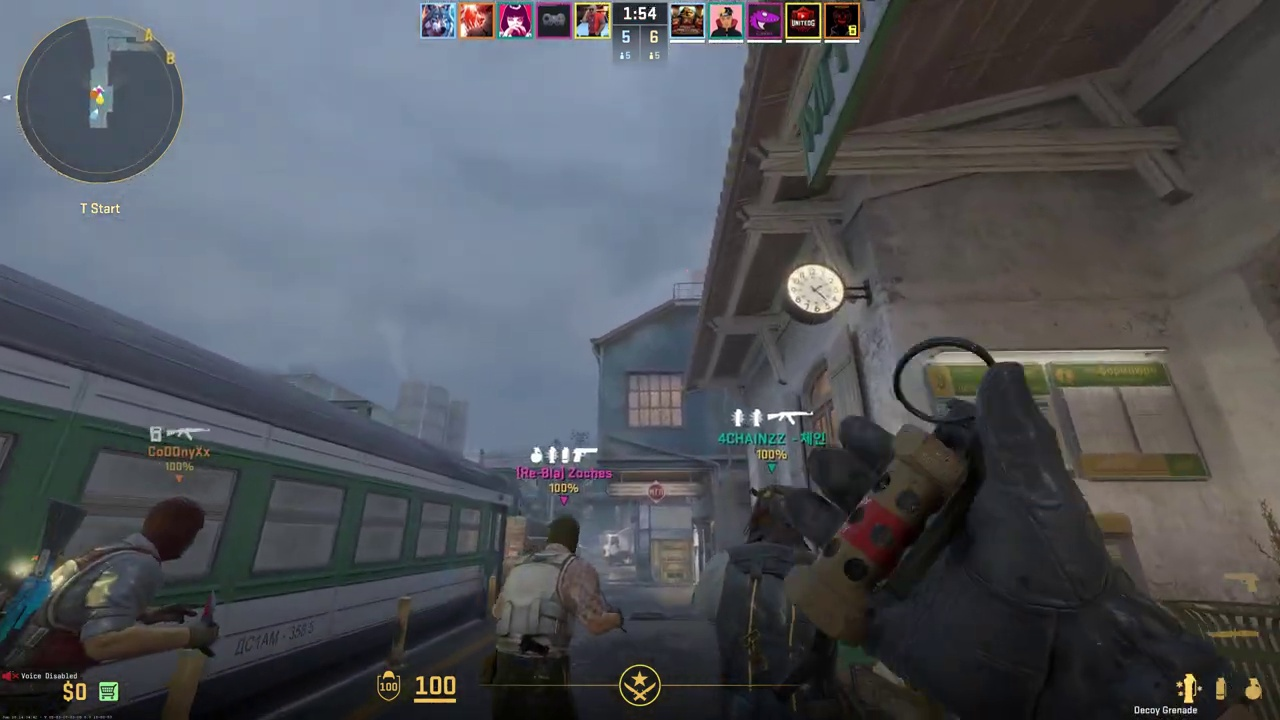Terrorist: (6, 499, 206, 720), (686, 484, 846, 719), (489, 514, 602, 720)
